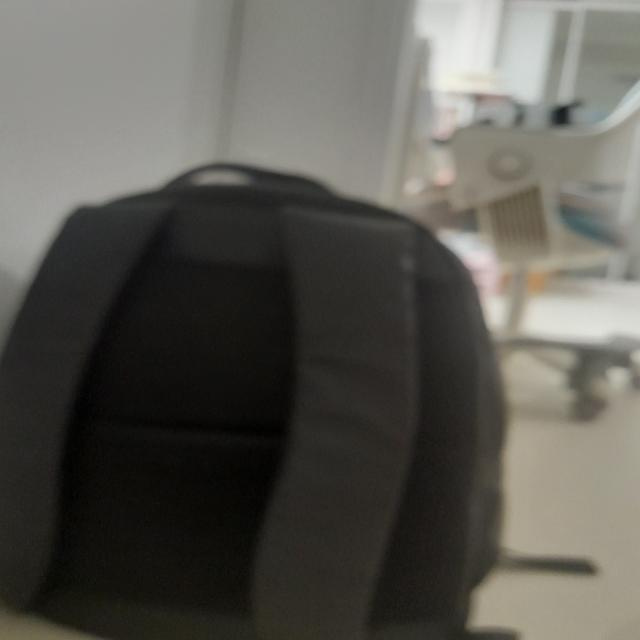backpack: (4, 164, 502, 639)
